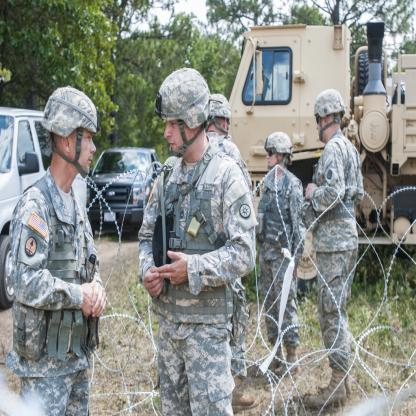Helmet: (154, 67, 218, 154), (43, 83, 101, 176), (312, 88, 347, 147), (208, 90, 231, 136), (266, 131, 293, 170)
